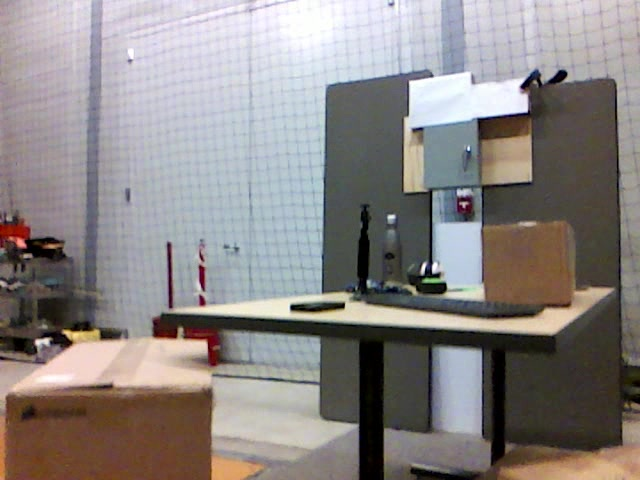box: (7, 338, 211, 480), (483, 223, 573, 306)
